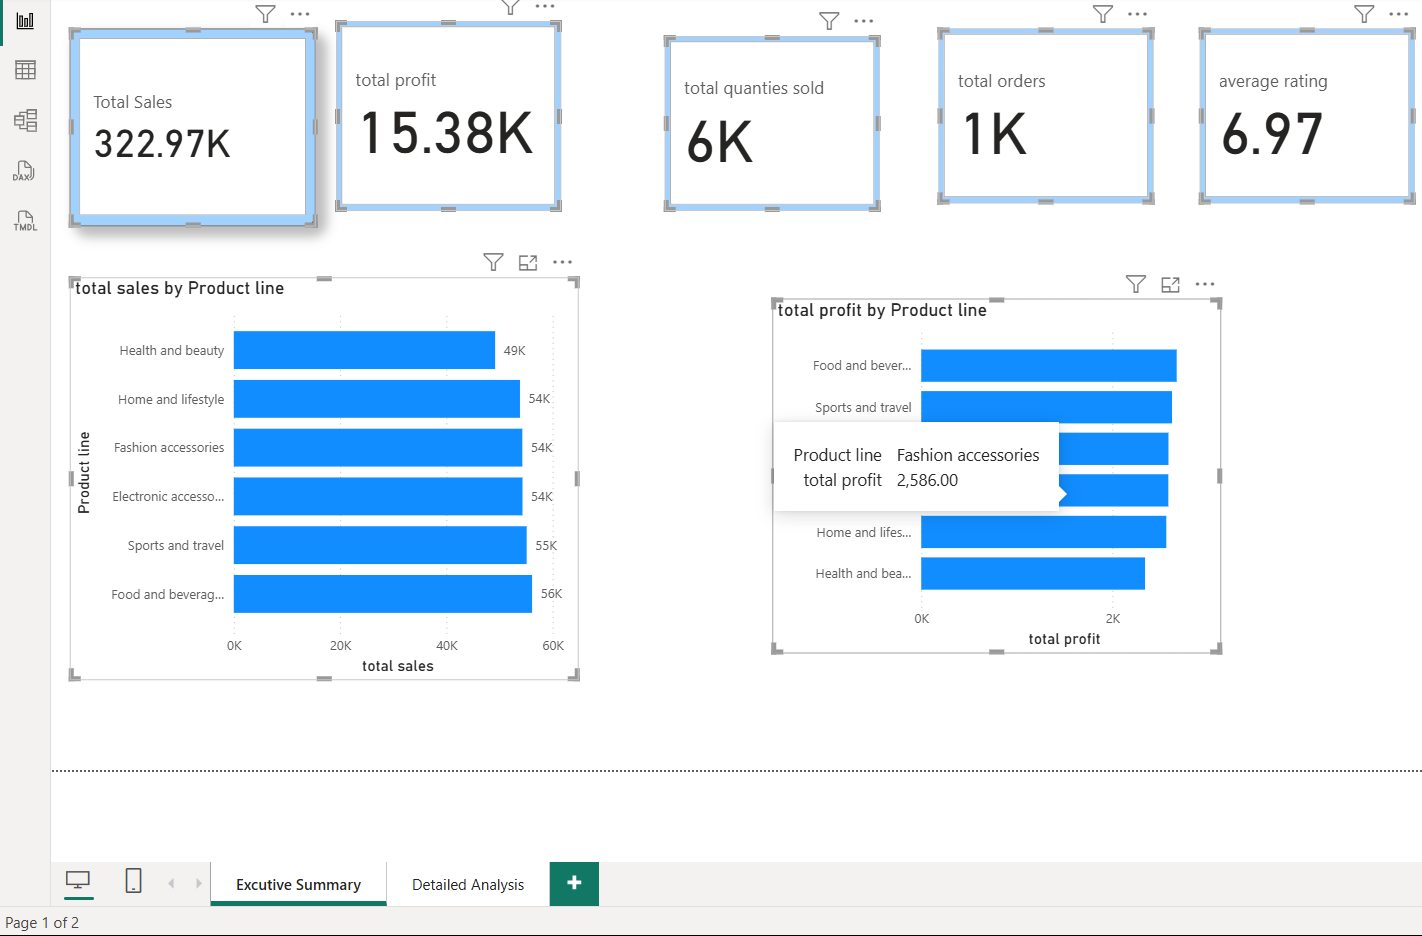

The dashboard page shown, as its layout file describes it:
{"tool":"powerbi","page":{"name":"Excutive Summary","canvas":[1280,720],"ordinal":0},"visuals":[{"type":"cardVisual","title":"Total profit","fields":{"Data":["Sales.total profit"]},"box":[265.1,23.3,209.3,176.7],"z":0},{"type":"cardVisual","fields":{"Data":["Sales.total sales"]},"box":[17.4,30.2,229.1,183.7],"z":1},{"type":"cardVisual","fields":{"Data":["Sales.total quanties sold"]},"box":[570.9,37.2,200,162.8],"z":2},{"type":"cardVisual","fields":{"Data":["Sales.average rating"]},"box":[1068.6,30.2,200,162.8],"z":3},{"type":"cardVisual","fields":{"Data":["Sales.total orders"]},"box":[825.6,30.2,200,162.8],"z":4},{"type":"clusteredBarChart","fields":{"Y":["Sales.total sales"],"Category":["Sales.Product line"]},"box":[17.4,261.6,473.3,374.4],"z":5},{"type":"clusteredBarChart","fields":{"Y":["Sales.total profit"],"Category":["Sales.Product line"]},"box":[670.9,281.4,417.4,330.2],"z":6}]}

Visuals, with their boxes on the page's 1280x720 design canvas (x1, y1, x2, y2). These are canvas units, not pixel positions in the 1422x936 screenshot, which may show the page scaled, cropped or inside an application window:
"Total profit" cardVisual: detection(265, 23, 474, 200)
cardVisual - Sales.total sales: detection(17, 30, 246, 214)
cardVisual - Sales.total quanties sold: detection(571, 37, 771, 200)
cardVisual - Sales.average rating: detection(1069, 30, 1269, 193)
cardVisual - Sales.total orders: detection(826, 30, 1026, 193)
clusteredBarChart - Sales.total sales x Sales.Product line: detection(17, 262, 491, 636)
clusteredBarChart - Sales.total profit x Sales.Product line: detection(671, 281, 1088, 612)
